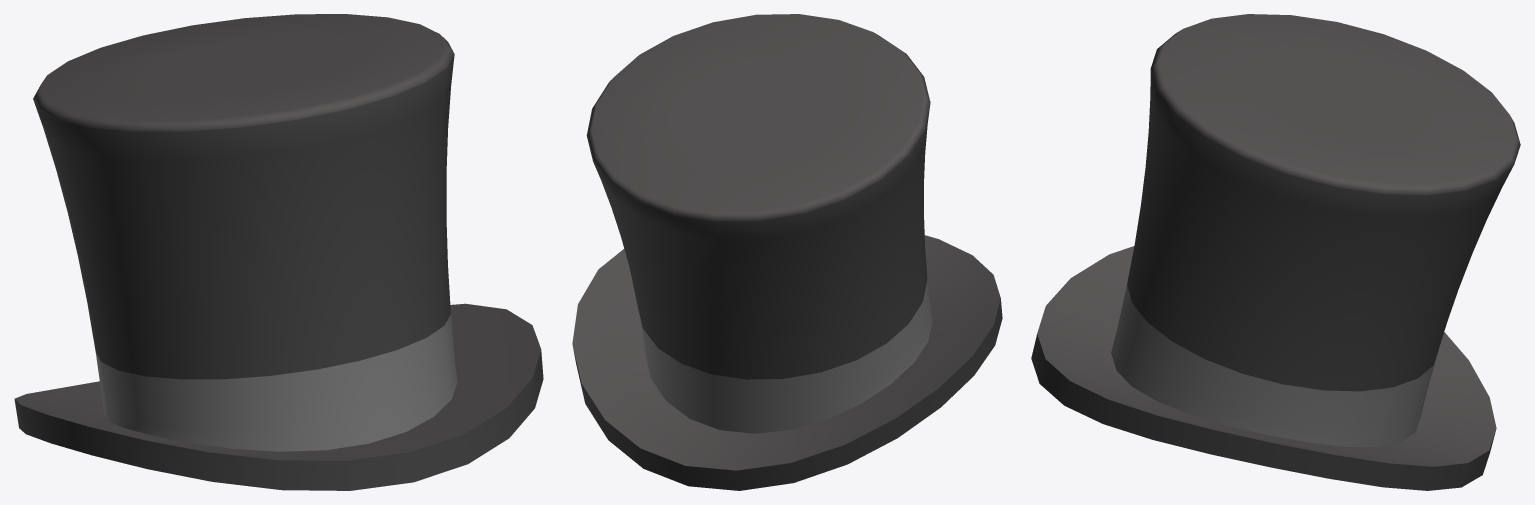
Rendered from Dracula_Tophate.fbx.
3 views of the same model, side by side, from view 1: azimuth 30°, elevation 25°; view 2: azimuth 150°, elevation 25°; view 3: azimuth 270°, elevation 25° (orthographic). The views are drawn at different scales.
Parts seen in each view (by area): view 1: Dracula_Tophate; view 2: Dracula_Tophate; view 3: Dracula_Tophate.
Boxes of the visible parts, <box> form: Dracula_Tophate: <box>14,14,543,490</box>; Dracula_Tophate: <box>572,14,1002,490</box>; Dracula_Tophate: <box>1031,14,1520,490</box>.
Bounding box in the file's own units: 0.6692 × 0.6072 × 0.6898.
Materials: 1 (1 with a texture image).
